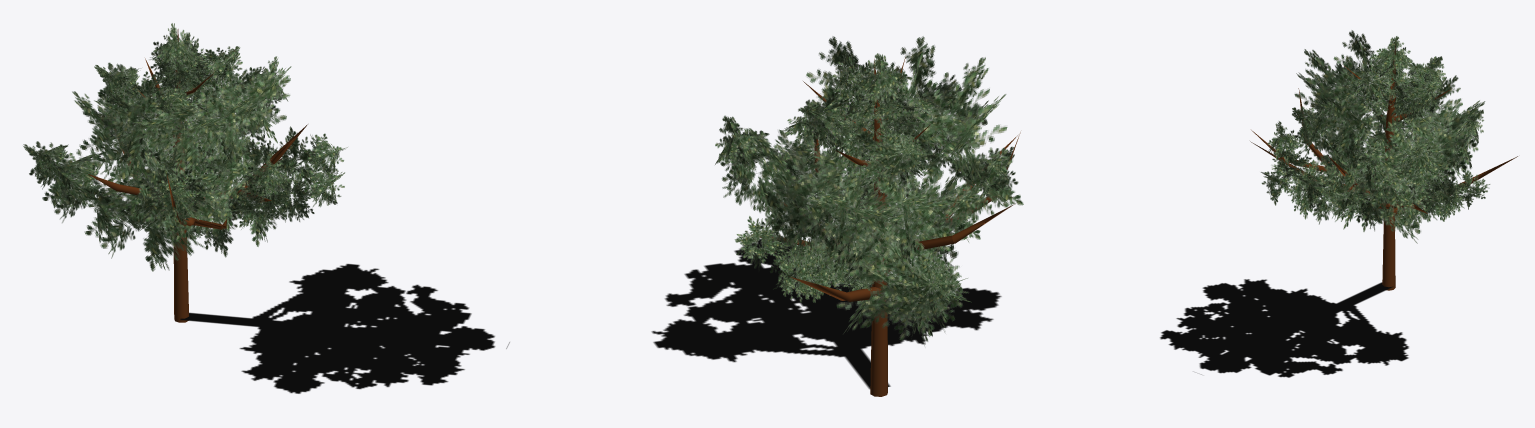
The model's file is tree.glb.
3 views of the same model, side by side, from view 1: azimuth 30°, elevation 25°; view 2: azimuth 150°, elevation 25°; view 3: azimuth 270°, elevation 25° (orthographic). The views are drawn at different scales.
Parts seen in each view (by area): view 1: leaves, trunk; view 2: leaves, trunk; view 3: leaves, trunk.
Boxes of the visible parts, <box> form: leaves: <box>23,23,509,393</box>; trunk: <box>88,29,307,322</box>; leaves: <box>651,36,1023,389</box>; trunk: <box>751,57,1020,396</box>; leaves: <box>1160,30,1490,377</box>; trunk: <box>1250,43,1517,290</box>.
Bounding box in the file's own units: 22.05 × 15.19 × 22.77.
3 materials, 2 textured.
